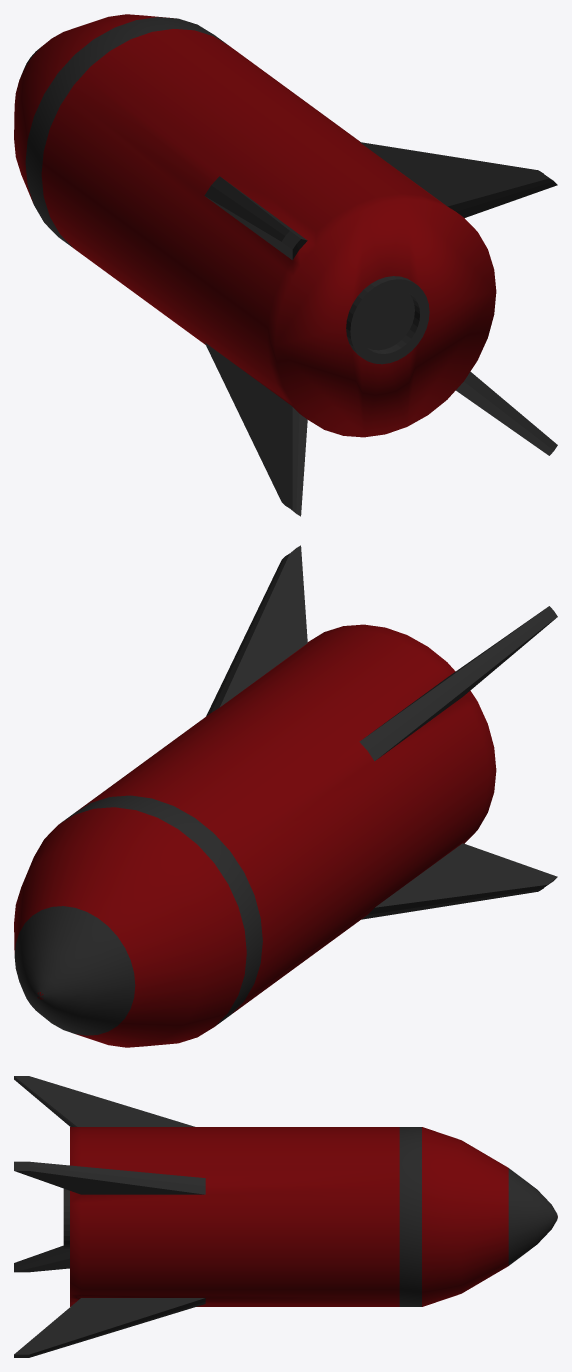
The model's file is Rocket.fbx.
3 renders of one model, top to bottom at view 1: azimuth 30°, elevation 25°; view 2: azimuth 150°, elevation 25°; view 3: azimuth 270°, elevation 25°, orthographic. The views are drawn at different scales.
Visible parts, largest first — view 1: Cylinder, Cylinder.001; view 2: Cylinder; view 3: Cylinder, Cylinder.001.
Boxes of the visible parts, x1,y1,x2,y2 form: Cylinder: (14, 14, 557, 516); Cylinder.001: (346, 276, 429, 364); Cylinder: (14, 545, 557, 1047); Cylinder: (14, 1076, 557, 1357); Cylinder.001: (63, 1188, 69, 1249).
Size of the model in its own units: 448 by 178 by 178.
